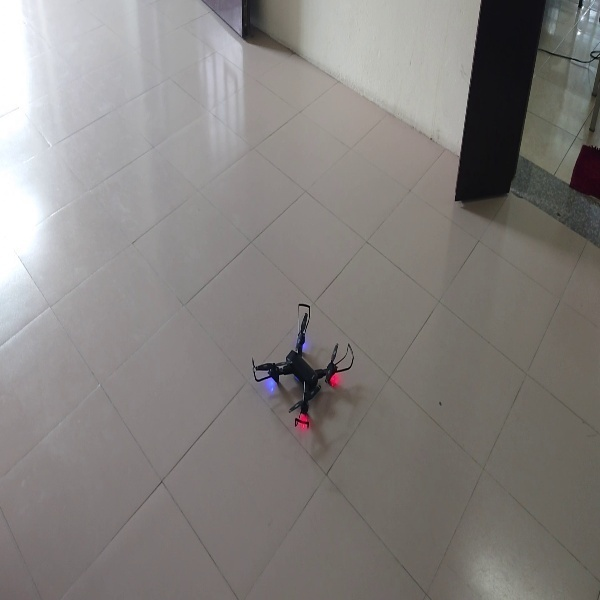drone: (250, 302, 358, 434)
